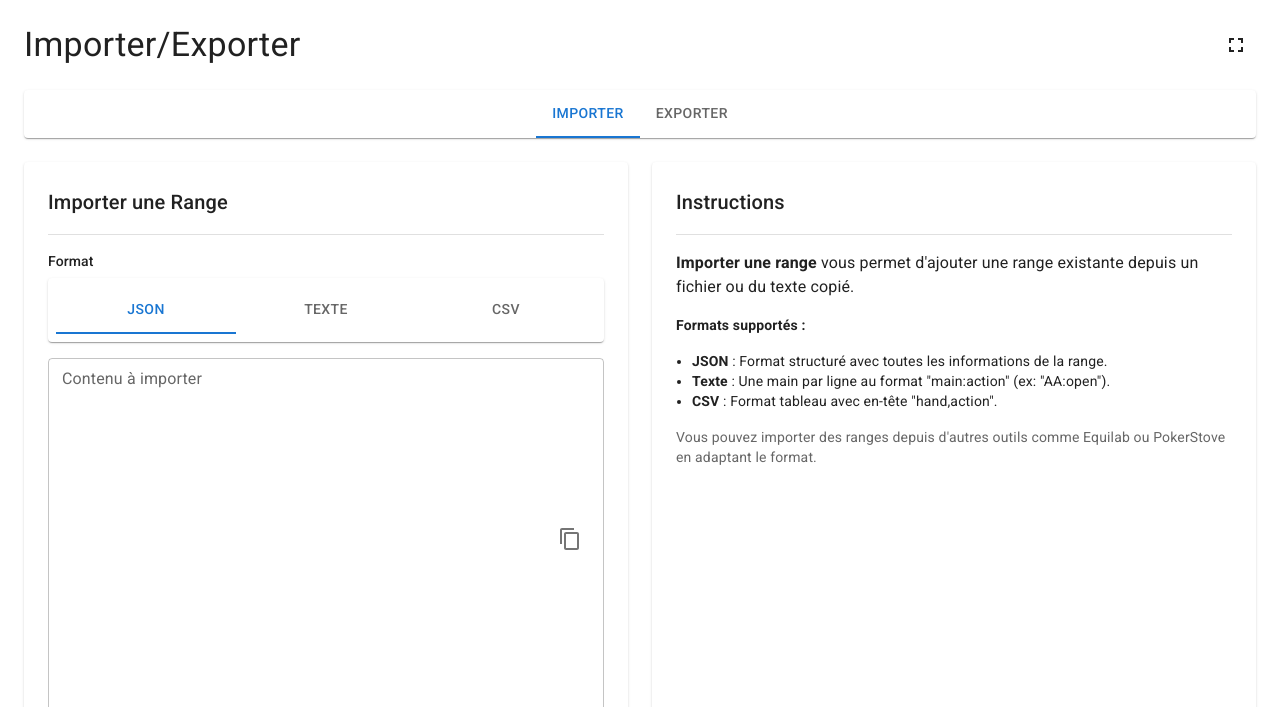
ImportExport page › downloads an export when a range is already selected
The width and height of the screenshot is (1280, 707).
Click the tab "Exporter": (692, 114) [640,90,744,138]
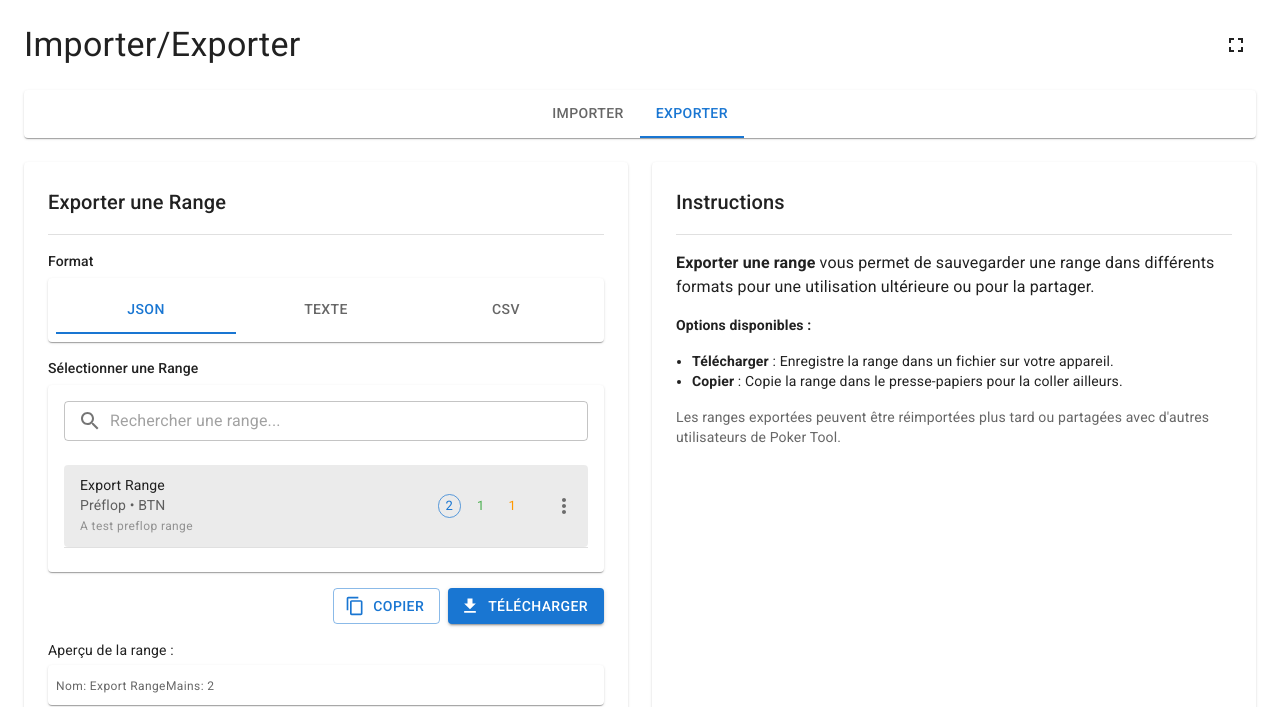
Expected: the button "Télécharger" is enabled
Click the button "Télécharger": (526, 606) [448,588,604,624]
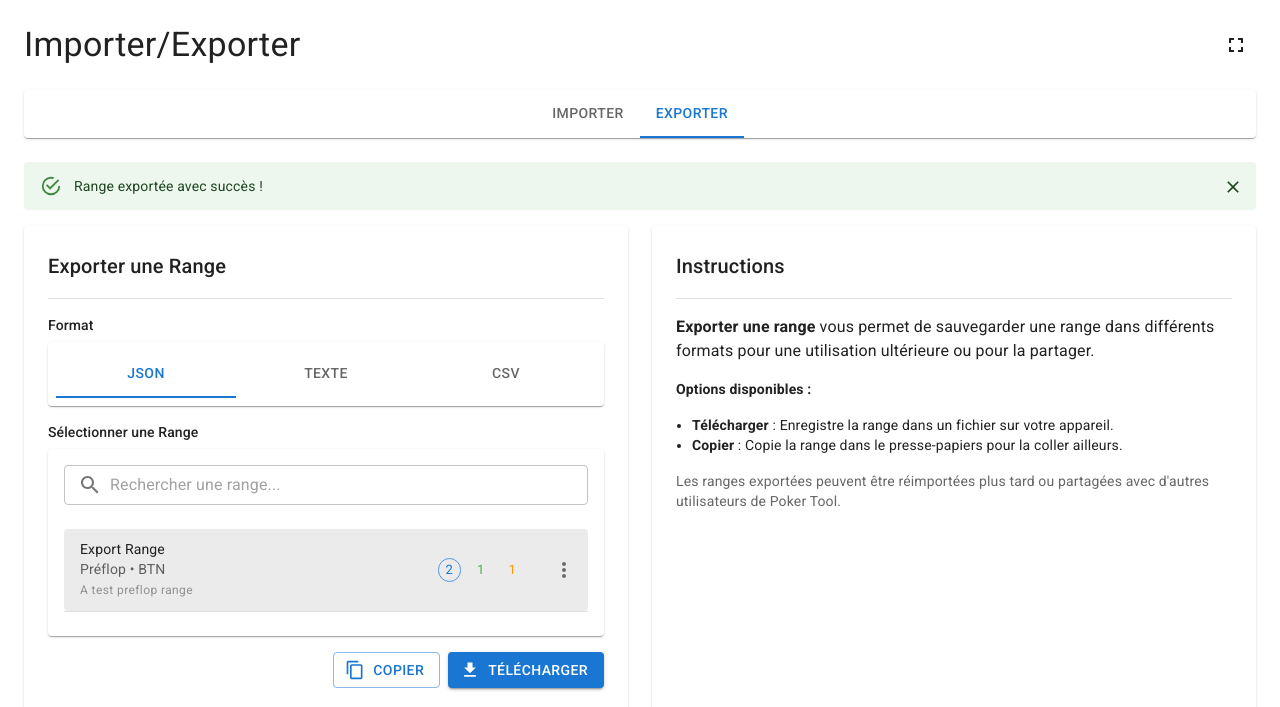
Expected: the message shows "succès", [74,178,263,194]
